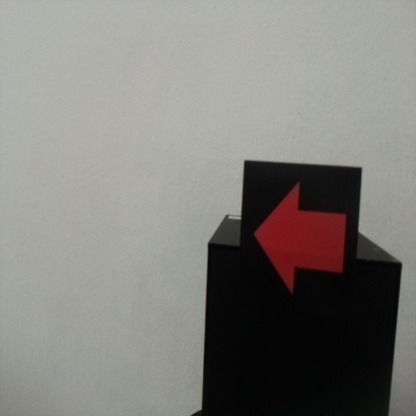id_4: (242, 163, 359, 327)
